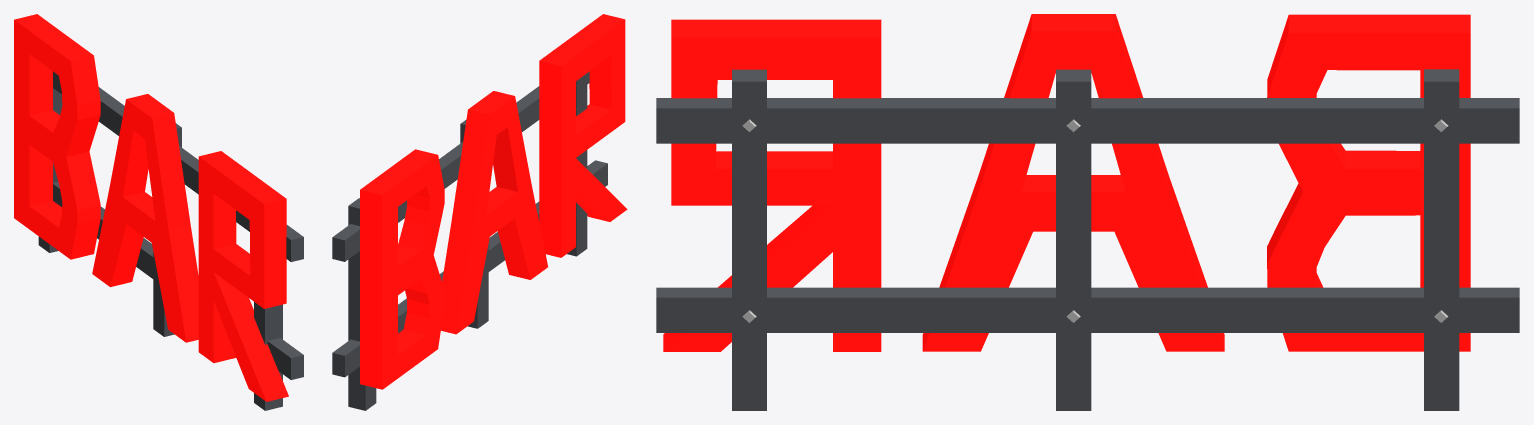
Rendered from SM_Hoarding_06.fbx.
The picture shows the model from 3 angles, left to right: view 1: azimuth 30°, elevation 25°; view 2: azimuth 150°, elevation 25°; view 3: azimuth 270°, elevation 25°; orthographic projection. The views are drawn at different scales.
Parts seen in each view (by area): view 1: SM_Hoarding_06_LOD0; view 2: SM_Hoarding_06_LOD0; view 3: SM_Hoarding_06_LOD0.
Part boxes in pixels (box(x1,y1,x2,y2)): SM_Hoarding_06_LOD0: box(14, 14, 303, 410); SM_Hoarding_06_LOD0: box(332, 14, 627, 410); SM_Hoarding_06_LOD0: box(656, 14, 1519, 410).
Bounding box in the file's own units: 51.53 × 598 × 281.
Materials: 1 (1 with a texture image).
